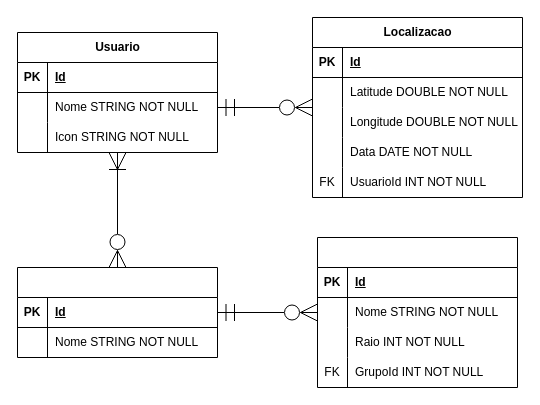
The diagram is 540 pixels wide and 405 high, and some of its shapes have lost their labels. Each missing label, with the box of its shape:
Grupo: (16, 266, 218, 358)
Lugar: (316, 236, 518, 388)
